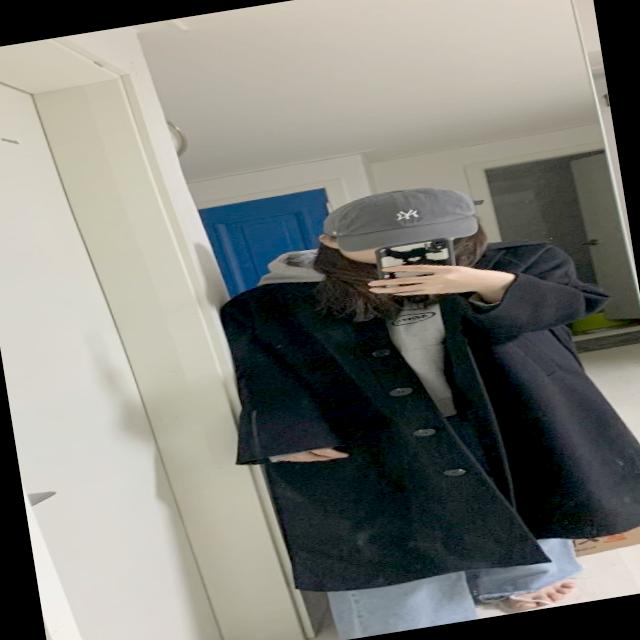coat: (215, 214, 640, 607)
denimpants: (321, 532, 586, 640)
hoodies: (263, 228, 461, 437)
